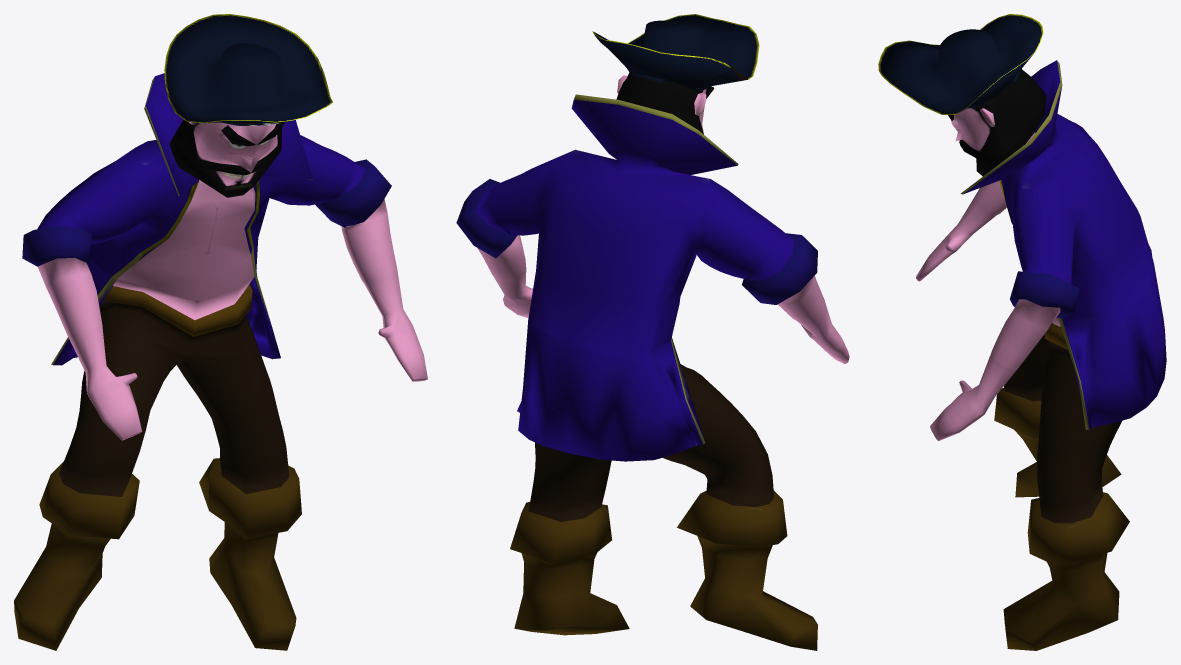
File: PirataCelebracion_000143.obj
3 renders of one model, left to right at view 1: azimuth 30°, elevation 25°; view 2: azimuth 150°, elevation 25°; view 3: azimuth 270°, elevation 25°, orthographic. The views are drawn at different scales.
Visible parts, largest first — view 1: Pirata_PirataH; view 2: Pirata_PirataH; view 3: Pirata_PirataH.
Boxes of the visible parts, left/top/right/bottom form: Pirata_PirataH: left=14, top=14, right=427, bottom=650; Pirata_PirataH: left=456, top=14, right=849, bottom=650; Pirata_PirataH: left=878, top=14, right=1166, bottom=650.
Bounding box in the file's own units: 4.61 × 7.68 × 3.39.
Materials: 1 (1 with a texture image).
